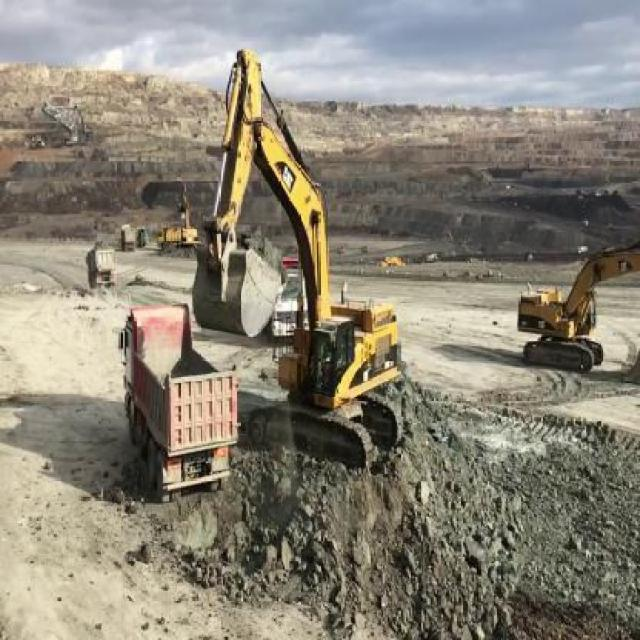dump_truck: (120, 313, 243, 495), (86, 237, 114, 286), (120, 220, 135, 252)
excavator: (191, 38, 407, 474), (515, 224, 637, 387)
